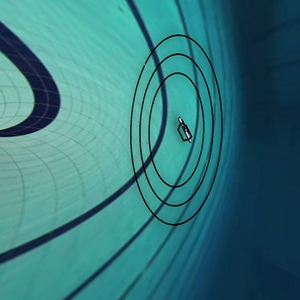circle: (121, 29, 231, 236)
submarine: (171, 112, 199, 149)
